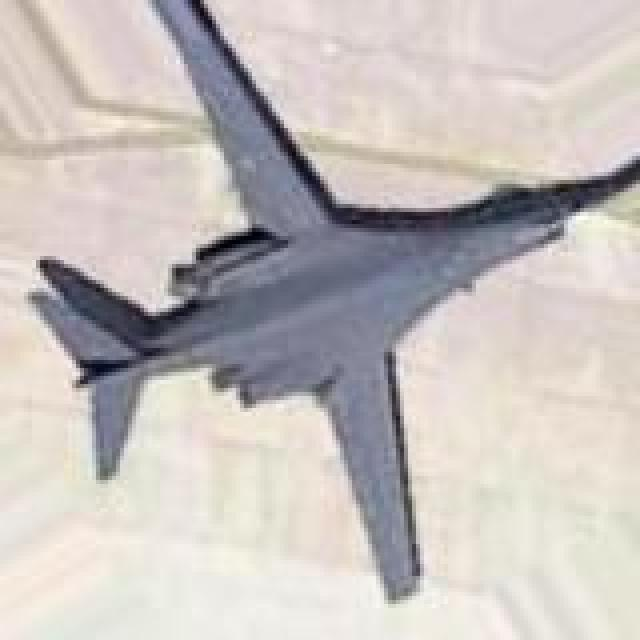B-1_TopDown: (24, 0, 636, 600)
